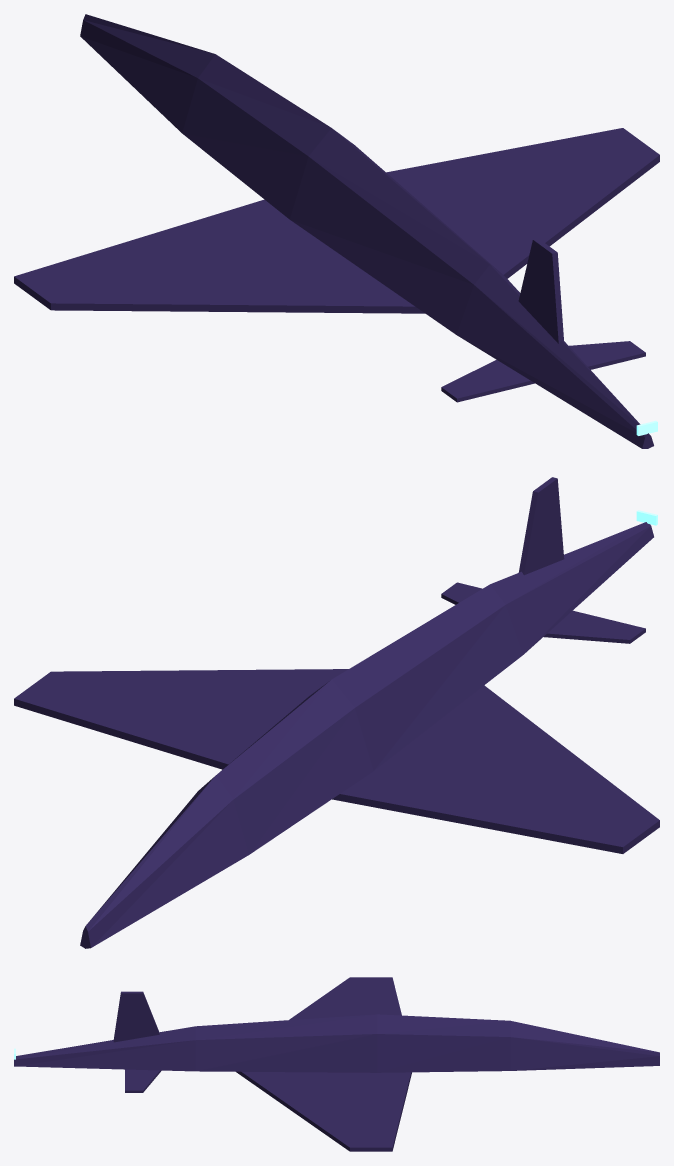
The model's file is 05_neon_bomber.glb.
3 renders of one model, top to bottom at view 1: azimuth 30°, elevation 25°; view 2: azimuth 150°, elevation 25°; view 3: azimuth 270°, elevation 25°, orthographic. The views are drawn at different scales.
Parts seen in each view (by area): view 1: fuselage_0, wing_1, wing_2, fin_5, tailplane_3, tailplane_4; view 2: fuselage_0, wing_1, wing_2, fin_5, tailplane_3; view 3: fuselage_0, wing_2, wing_1, fin_5, tailplane_4.
Boxes of the visible parts, x1,y1,x2,y2 form: fuselage_0: [80, 14, 653, 448]; wing_1: [14, 199, 424, 313]; wing_2: [386, 128, 659, 278]; fin_5: [518, 238, 564, 343]; tailplane_3: [441, 360, 534, 402]; tailplane_4: [569, 341, 645, 369]; fuselage_0: [80, 522, 653, 948]; wing_1: [332, 685, 659, 853]; wing_2: [14, 669, 348, 769]; fin_5: [518, 477, 564, 575]; tailplane_3: [544, 610, 645, 643]; fuselage_0: [14, 1014, 659, 1072]; wing_2: [236, 1071, 411, 1151]; wing_1: [289, 977, 401, 1019]; fin_5: [113, 991, 159, 1042]; tailplane_4: [125, 1069, 161, 1092].
Size of the model in its own units: 20 by 4.05 by 32.
